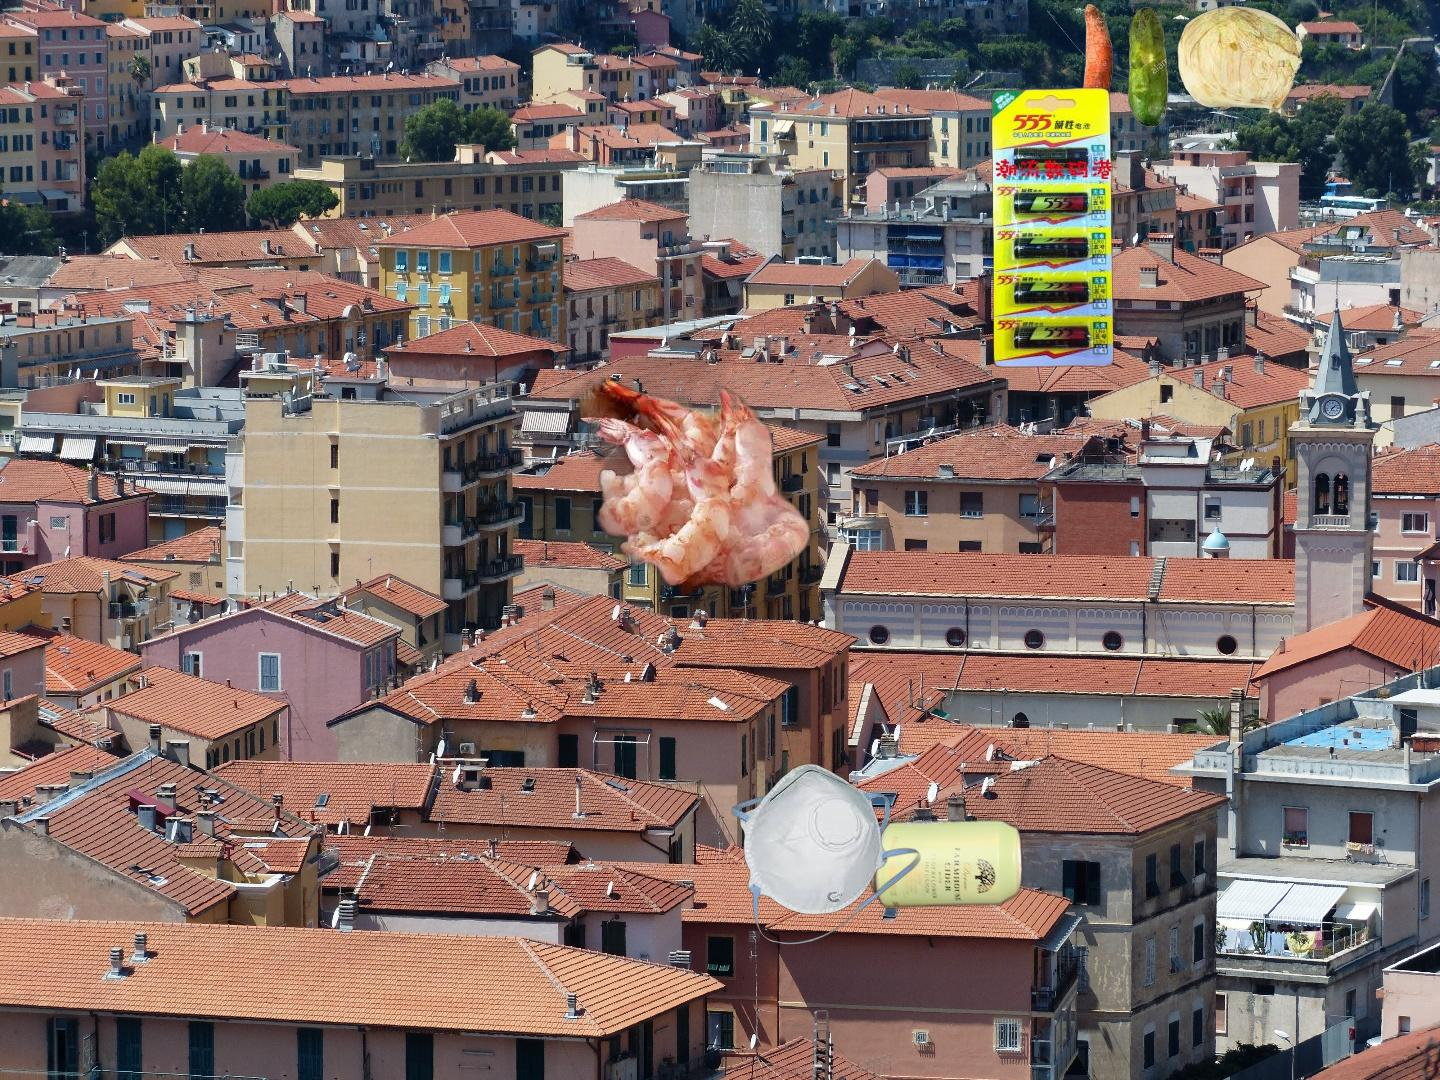battery: (989, 85, 1117, 369)
biological: (304, 378, 818, 762), (1073, 1, 1306, 137)
metal-cans: (866, 815, 1027, 913)
trash: (729, 761, 922, 947)
